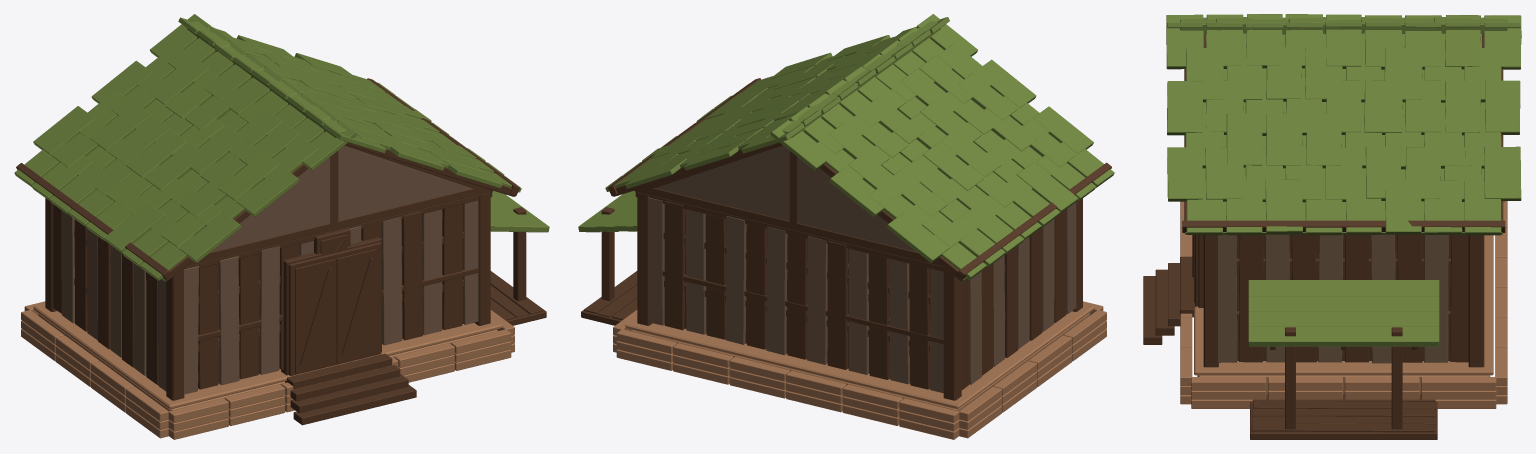
File: building_barn_a.glb
3 views of the same model, side by side, from view 1: azimuth 30°, elevation 25°; view 2: azimuth 150°, elevation 25°; view 3: azimuth 270°, elevation 25° (orthographic). The views are drawn at different scales.
Parts seen in each view (by area): view 1: building_barn_a_LOD0; view 2: building_barn_a_LOD0; view 3: building_barn_a_LOD0.
Boxes of the visible parts, left/top/right/bottom form: building_barn_a_LOD0: left=14, top=14, right=549, bottom=439; building_barn_a_LOD0: left=578, top=14, right=1114, bottom=439; building_barn_a_LOD0: left=1143, top=14, right=1521, bottom=439.
Size of what is drawn, in the model's own units: 9.6 by 5.89 by 6.81.
